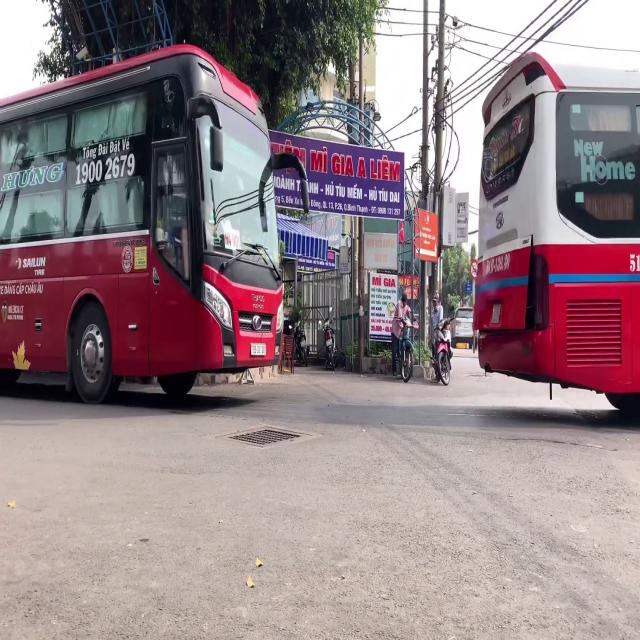bien_trang: (248, 342, 267, 357)
